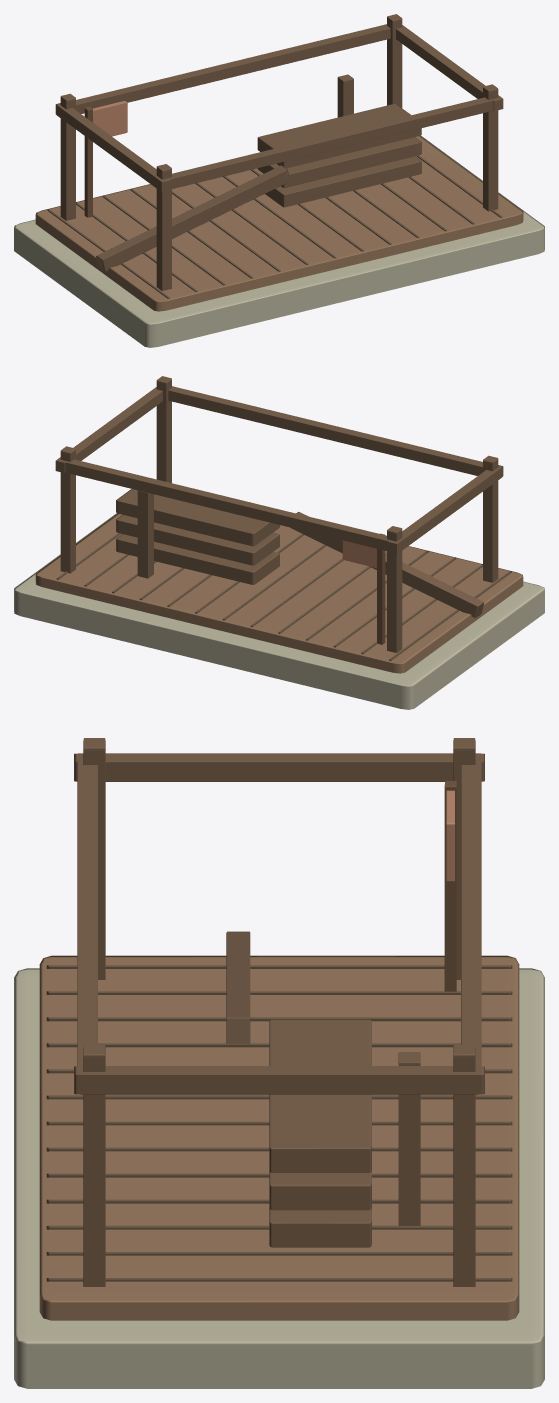
File: woodlookout-0.glb
3 renders of one model, top to bottom at view 1: azimuth 30°, elevation 25°; view 2: azimuth 150°, elevation 25°; view 3: azimuth 270°, elevation 25°, orthographic. The views are drawn at different scales.
Parts seen in each view (by area): view 1: woodlookout-0-0, landmark-restored, landmark-ruin; view 2: woodlookout-0-0, landmark-restored, landmark-ruin; view 3: woodlookout-0-0, landmark-restored, landmark-ruin.
Part boxes in pixels (x1,y1,x2,y2): woodlookout-0-0: (14,135,544,347); landmark-restored: (55,14,503,290); landmark-ruin: (96,74,353,271); woodlookout-0-0: (14,513,544,709); landmark-restored: (55,376,503,652); landmark-ruin: (137,490,483,618); woodlookout-0-0: (14,955,544,1388); landmark-restored: (74,738,484,1286); landmark-ruin: (226,931,420,1225).
Bounding box in the file's own units: 2.6 × 0.985 × 1.55.
